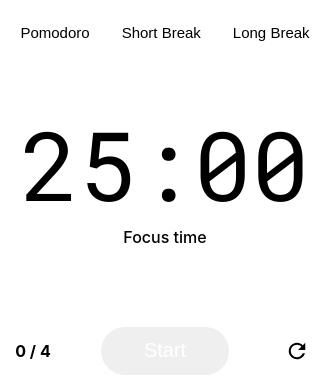
Test: <Layout /> › setups short break interval when button is clicked
This screenshot has width=327, height=392.
Click the button "Short Break" at (161, 32), box [114,12,209,52]
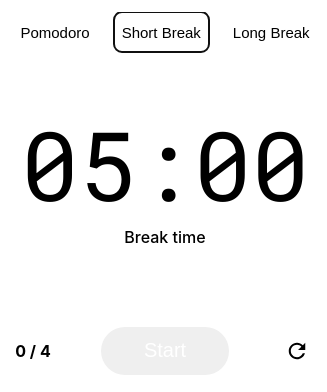
Result: the text with test id "timer" reads "05:00" at [21,100,309,227]
Result: the text with test id "timer-title" reads "Break time" at [124,227,206,247]
